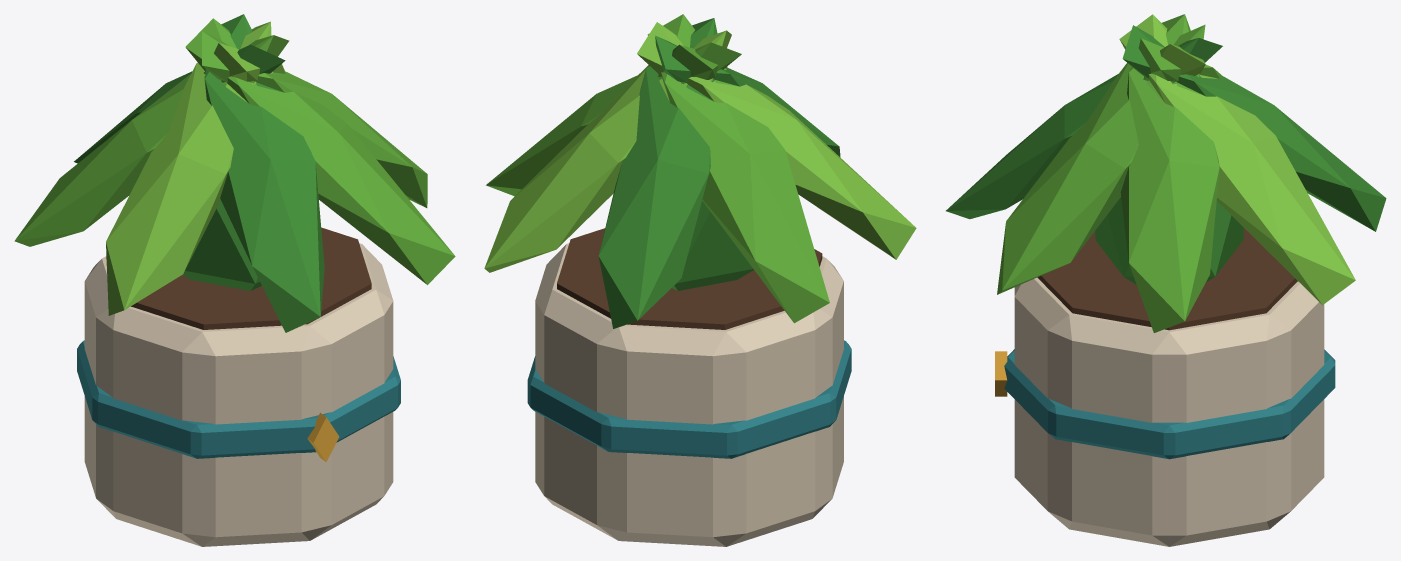
The model's file is casino_planter.glb.
3 views of the same model, side by side, from view 1: azimuth 30°, elevation 25°; view 2: azimuth 150°, elevation 25°; view 3: azimuth 270°, elevation 25° (orthographic).
Parts seen in each view (by area): view 1: casino_planter; view 2: casino_planter; view 3: casino_planter.
Boxes of the visible parts, <box> form: casino_planter: <box>14,14,455,546</box>; casino_planter: <box>484,14,916,546</box>; casino_planter: <box>946,14,1386,546</box>.
Size of the model in its own units: 0.7006 by 0.8121 by 0.7076.
